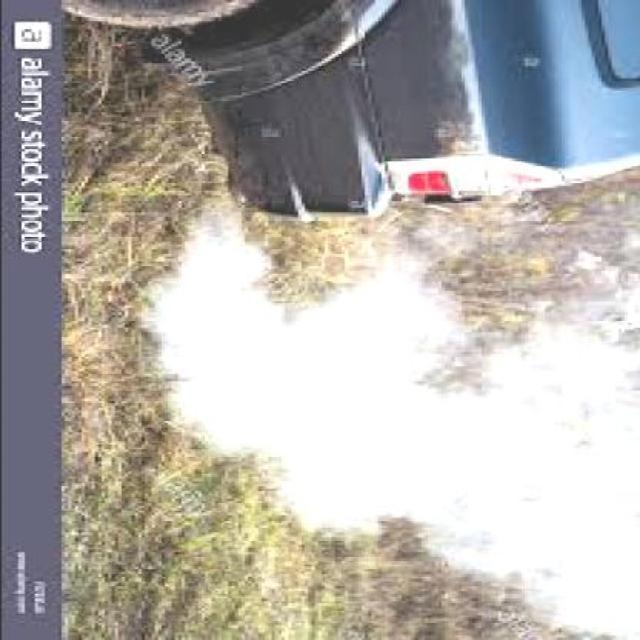Smoke: (143, 205, 640, 640)
